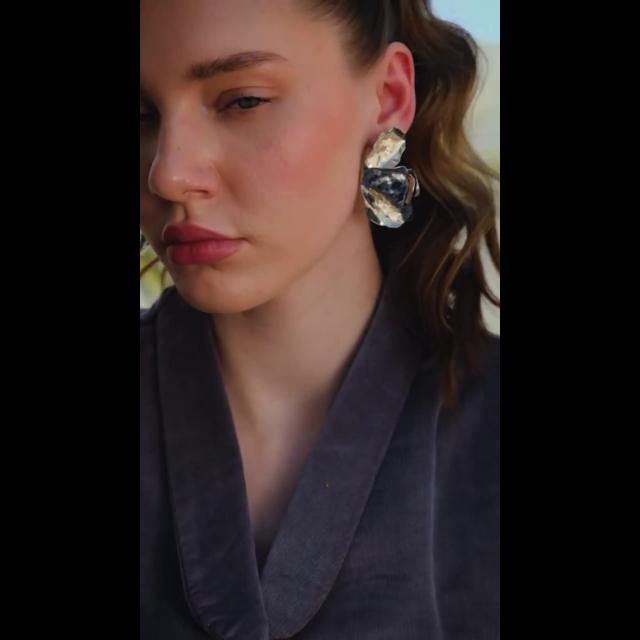ear ring: (362, 140, 418, 232)
